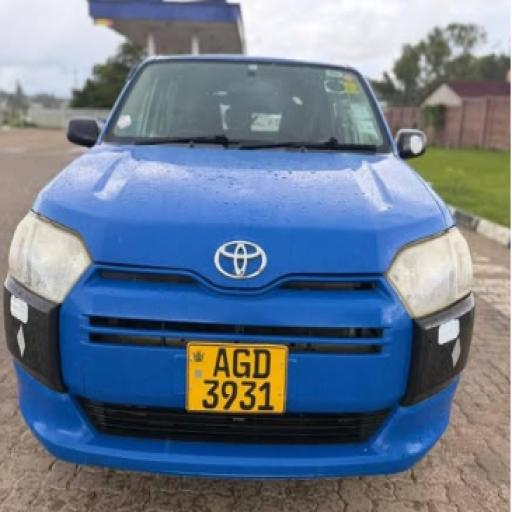number-plates: (186, 341, 281, 415)
